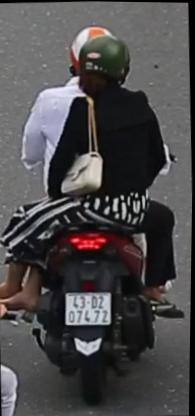LP: (63, 287, 115, 330)
helmet: (76, 22, 134, 98)
